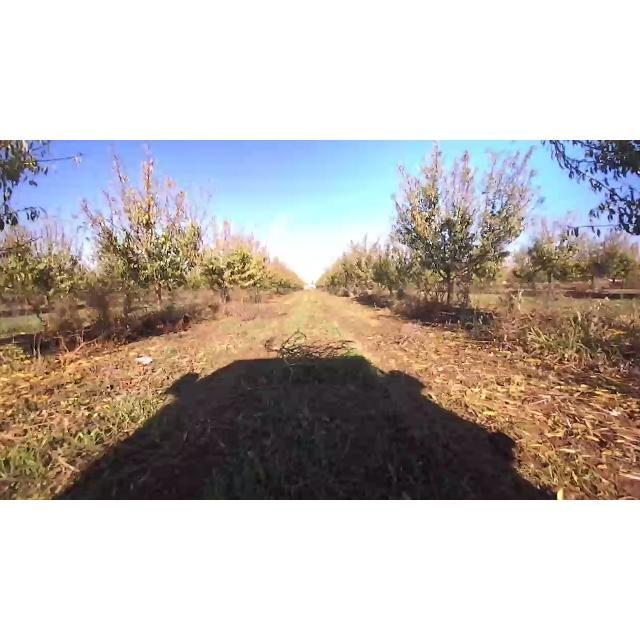direk: (392, 148, 550, 320), (86, 142, 202, 326), (198, 240, 270, 306), (364, 223, 416, 301), (596, 241, 636, 291), (562, 234, 598, 286)
